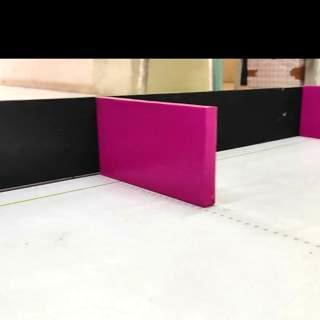xparking: (100, 108, 215, 198)
